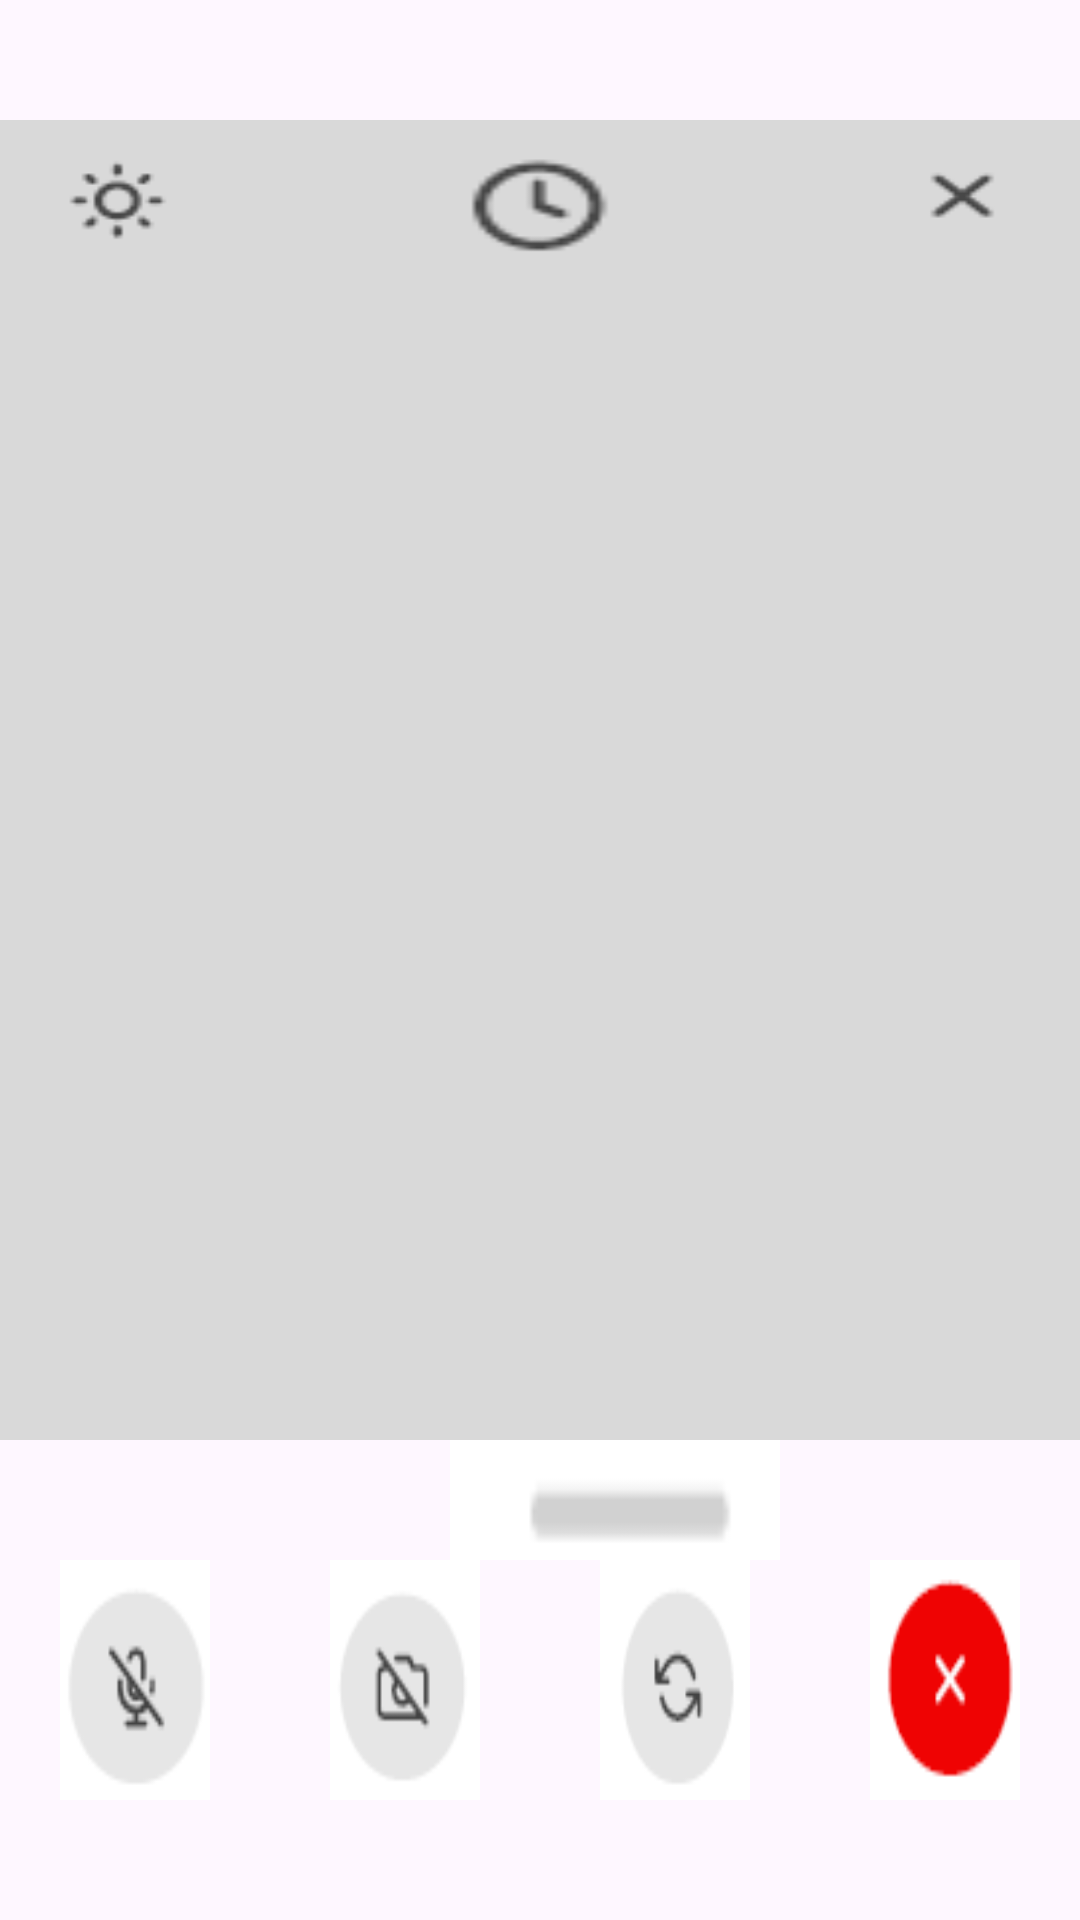

Icons on this 1080 x 1920 Android screen, each with the point to tap as [x,y]:
cam: [402,1688]
loop: [678,1688]
mic: [136,1688]
redcross: [950,1678]
timera: [539,205]
